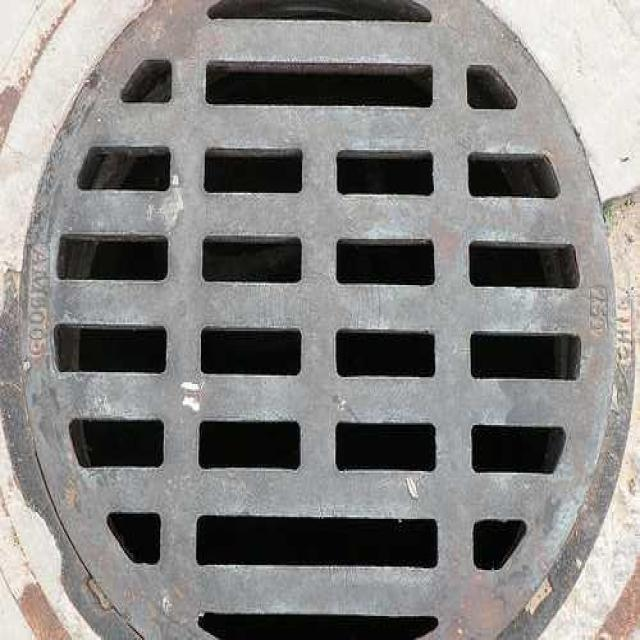manhole: (0, 0, 633, 638)
